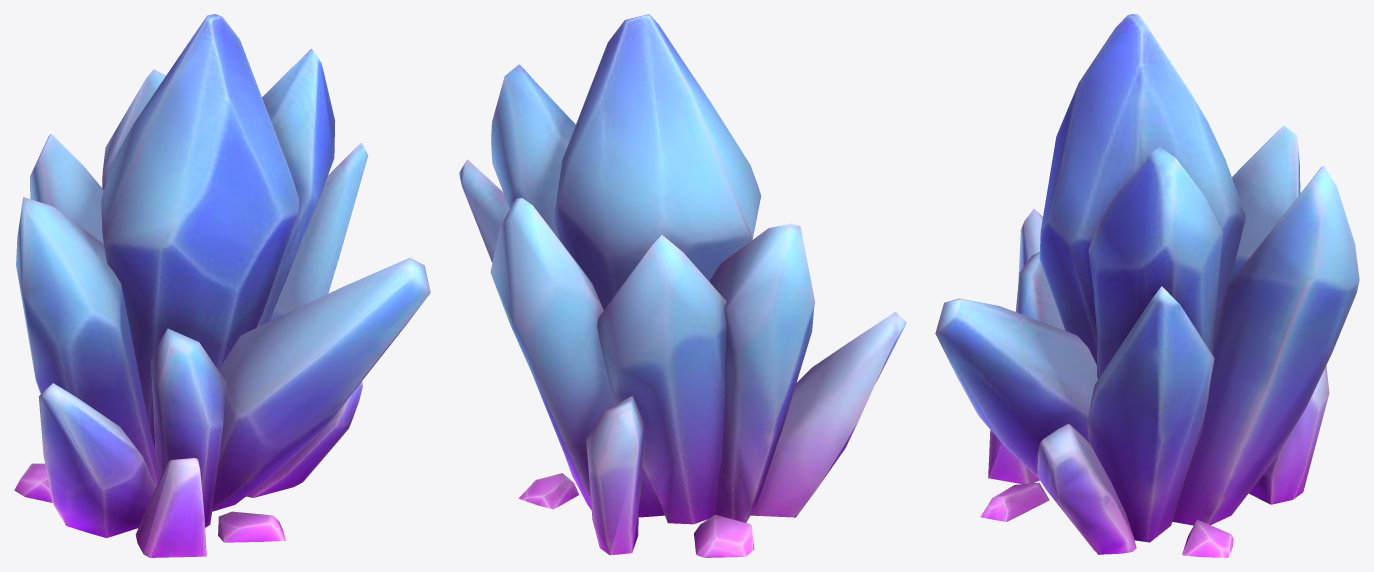
The model's file is crystal-cluster.glb.
The picture shows the model from 3 angles, left to right: view 1: azimuth 30°, elevation 25°; view 2: azimuth 150°, elevation 25°; view 3: azimuth 270°, elevation 25°; orthographic projection. The views are drawn at different scales.
Visible parts, largest first — view 1: crystalCluster; view 2: crystalCluster; view 3: crystalCluster.
Part boxes in pixels (left/top/right/bottom): crystalCluster: left=14, top=14, right=430, bottom=557; crystalCluster: left=459, top=14, right=906, bottom=557; crystalCluster: left=935, top=14, right=1359, bottom=557.
Bounding box in the file's own units: 1.36 × 1.6 × 1.23.
Materials: 1 (1 with a texture image).
